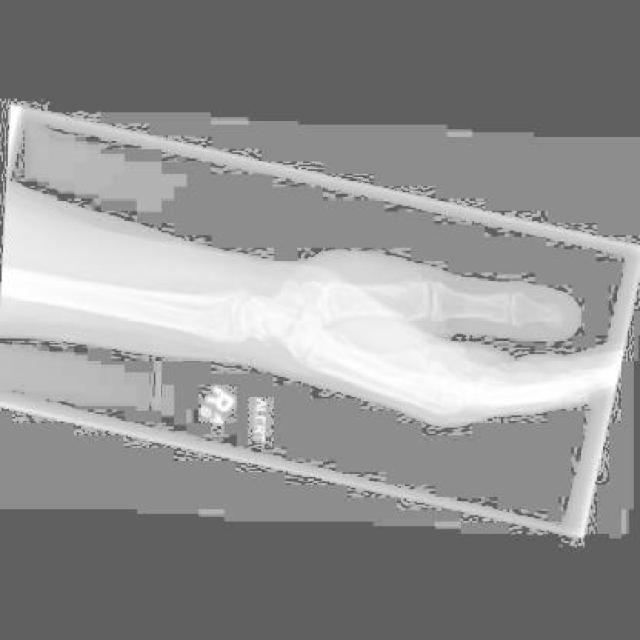Fracture: (262, 334, 276, 348)
